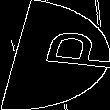P_W: (7, 33, 103, 77)
